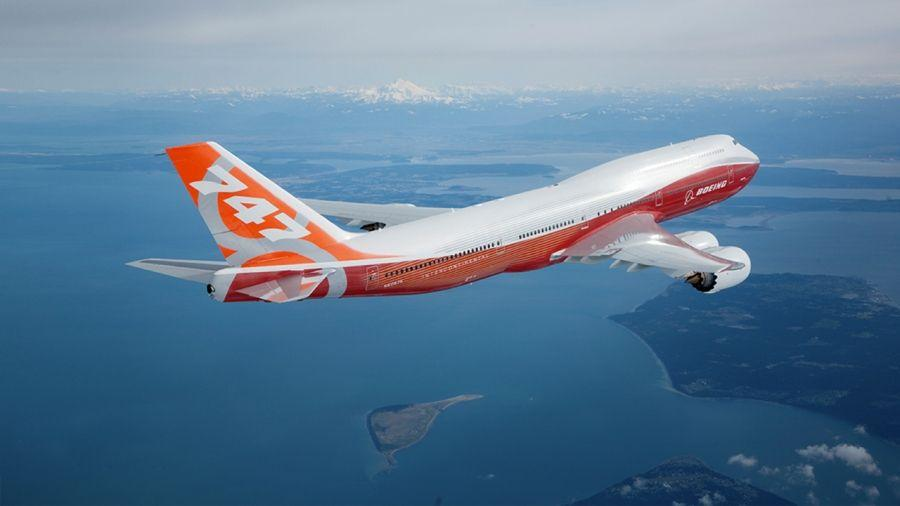airplane: (128, 130, 777, 315)
